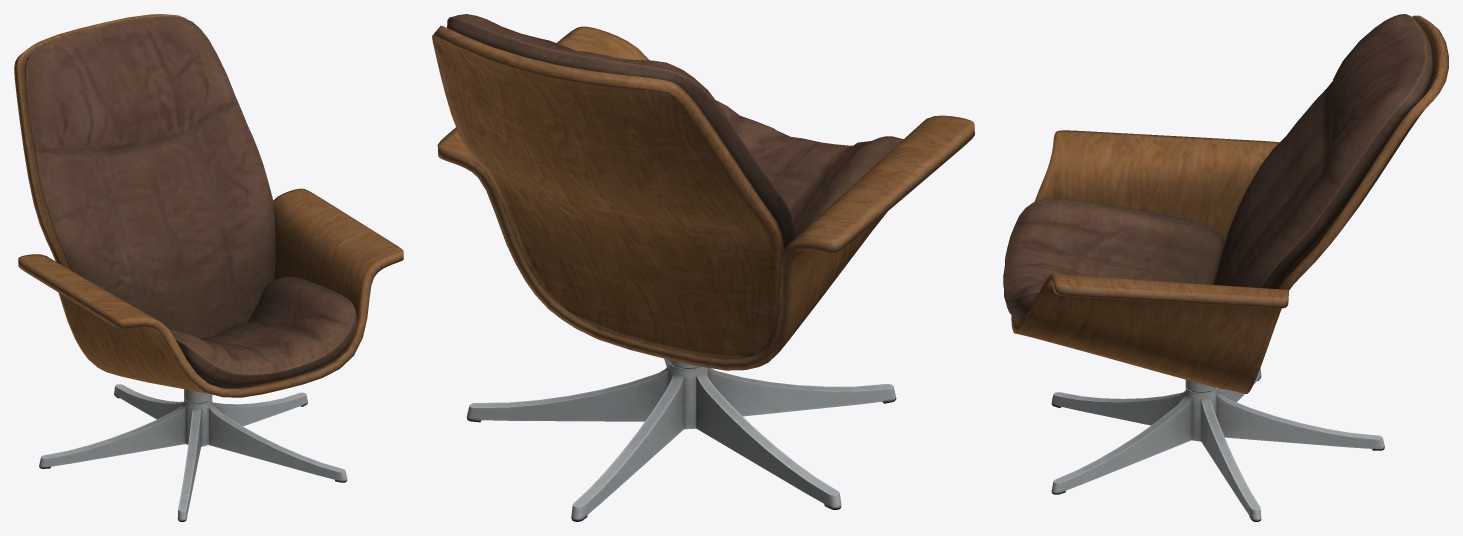
The model's file is lounge-chair.glb.
3 renders of one model, left to right at view 1: azimuth 30°, elevation 25°; view 2: azimuth 150°, elevation 25°; view 3: azimuth 270°, elevation 25°, orthographic. The views are drawn at different scales.
Visible parts, largest first — view 1: mid_century_lounge_chair; view 2: mid_century_lounge_chair; view 3: mid_century_lounge_chair.
Part boxes in pixels (box(x1,y1,x2,y2)): mid_century_lounge_chair: box(14, 14, 403, 521); mid_century_lounge_chair: box(432, 14, 974, 521); mid_century_lounge_chair: box(1003, 14, 1448, 521).
Bounding box in the file's own units: 1 × 1.17 × 1.19.
1 material, 1 textured.
